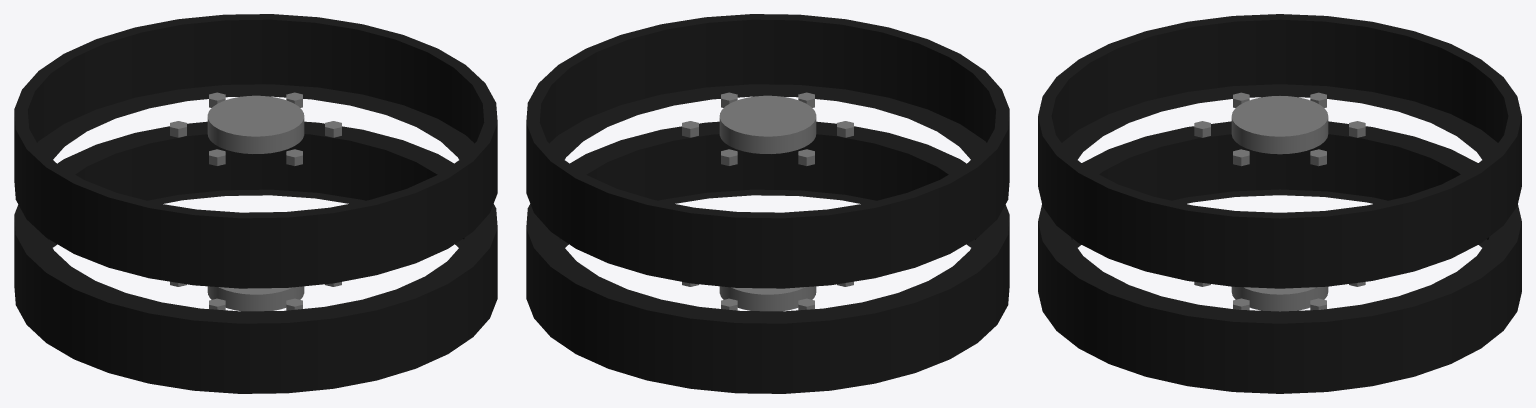
Rendered from LunTai_FuZhongLun_2X5.FBX.
3 views of the same model, side by side, from view 1: azimuth 30°, elevation 25°; view 2: azimuth 150°, elevation 25°; view 3: azimuth 270°, elevation 25° (orthographic).
Visible parts, largest first — view 1: Box001; view 2: Box001; view 3: Box001.
Boxes of the visible parts, box(x1,y1,x2,y2) form: Box001: box(14, 14, 497, 393); Box001: box(526, 14, 1009, 393); Box001: box(1038, 14, 1521, 393).
Size of the model in its own units: 5 by 2 by 5.
